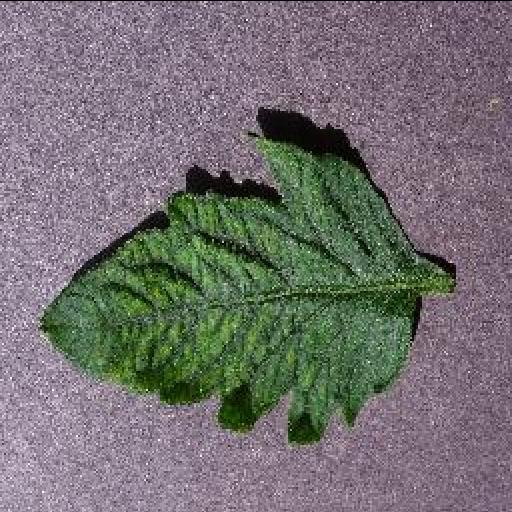Mosaic Virus: (38, 131, 424, 449)
